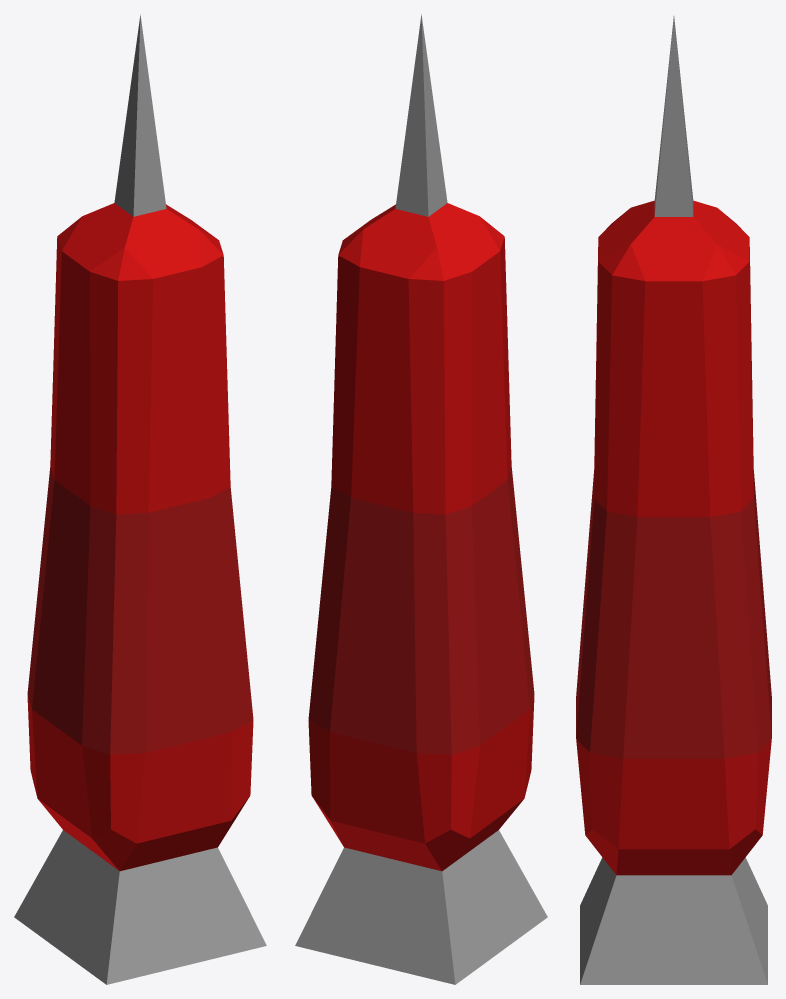
The model's file is Dart_Oku.fbx.
3 views of the same model, side by side, from view 1: azimuth 30°, elevation 25°; view 2: azimuth 150°, elevation 25°; view 3: azimuth 270°, elevation 25° (orthographic).
Visible parts, largest first — view 1: Cube; view 2: Cube; view 3: Cube.
Boxes of the visible parts, x1,y1,x2,y2 form: Cube: (14,14,266,984); Cube: (295,14,547,984); Cube: (576,16,771,984).
Size of the model in its own units: 7.24 by 38.03 by 7.24.
